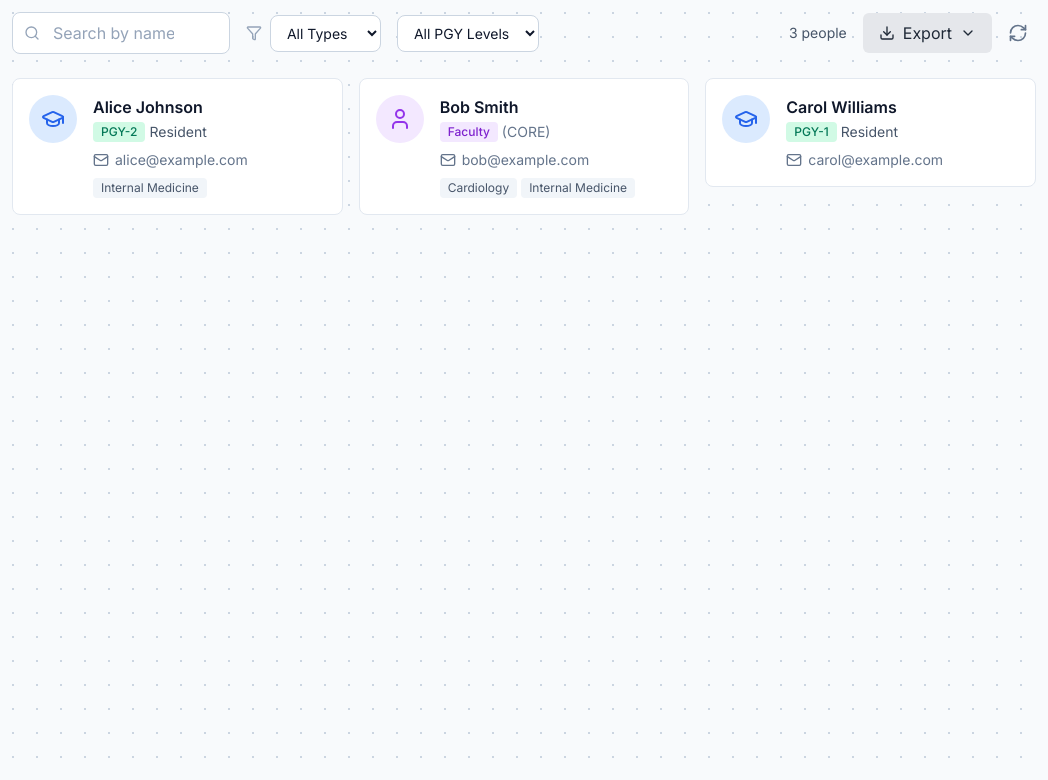
Test case: PeopleDirectory › Search › filters people by name
Step 1. Type "alice" into the search field → (121, 33), box [12,12,230,54]
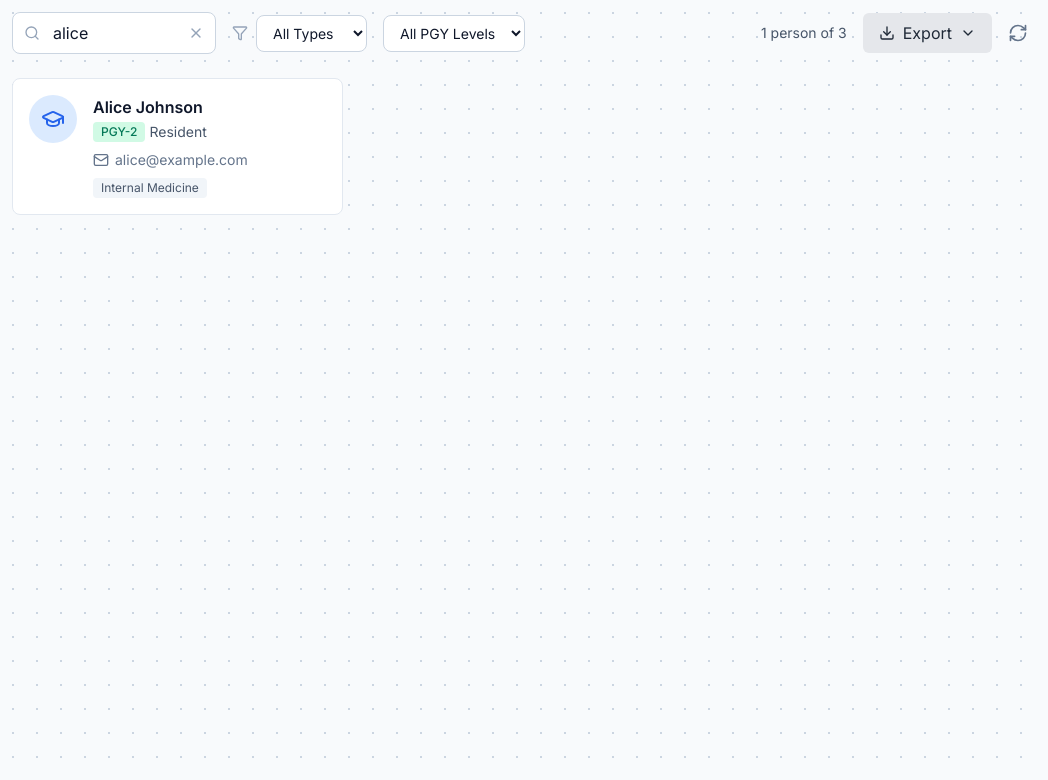
expect the heading "Alice Johnson" is shown: met, box [93,97,203,117]
expect the heading "Bob Smith" is gone: met
